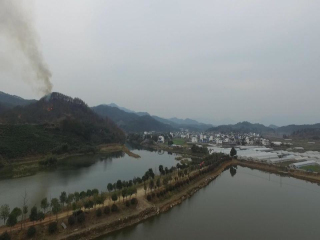smoke: (1, 8, 53, 104)
